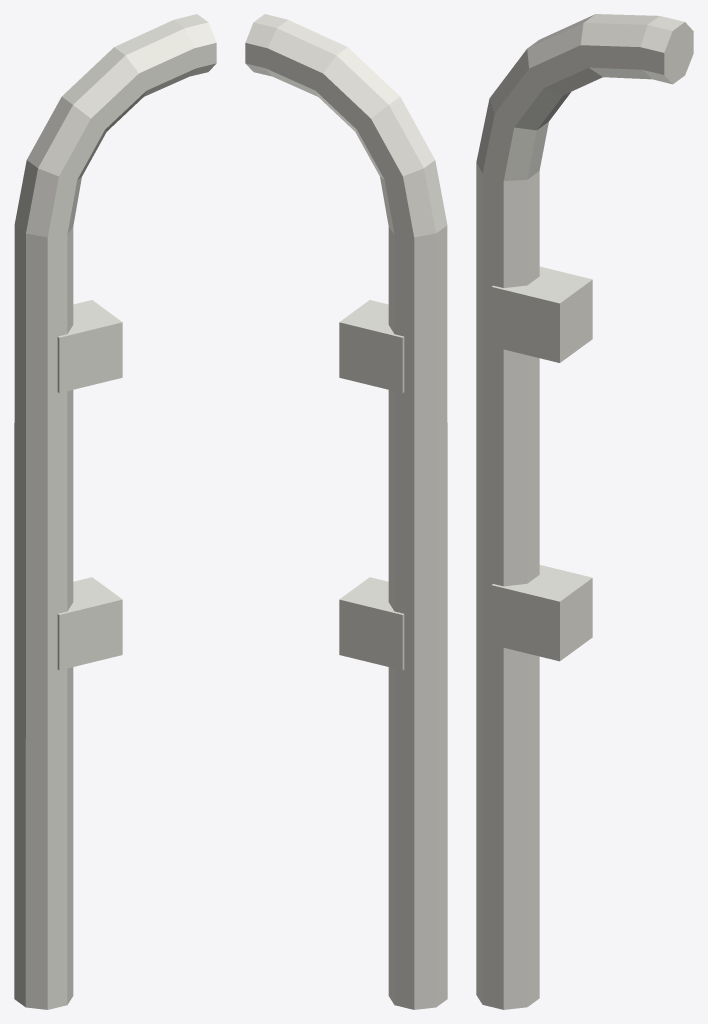
The model's file is SM_Street_GuardPipe_White_End_01.gltf.
The picture shows the model from 3 angles, left to right: view 1: azimuth 30°, elevation 25°; view 2: azimuth 150°, elevation 25°; view 3: azimuth 330°, elevation 25°; orthographic projection. The views are drawn at different scales.
Parts seen in each view (by area): view 1: SM_Street_GuardPipe_White_End_01; view 2: SM_Street_GuardPipe_White_End_01; view 3: SM_Street_GuardPipe_White_End_01.
Part boxes in pixels (x1=…): SM_Street_GuardPipe_White_End_01: x1=14, y1=14, x2=216, y2=1009; SM_Street_GuardPipe_White_End_01: x1=245, y1=14, x2=447, y2=1009; SM_Street_GuardPipe_White_End_01: x1=476, y1=14, x2=693, y2=1009.
Bounding box in the file's own units: 0.1725 × 0.8482 × 0.05.
Materials: 1 (1 with a texture image).
